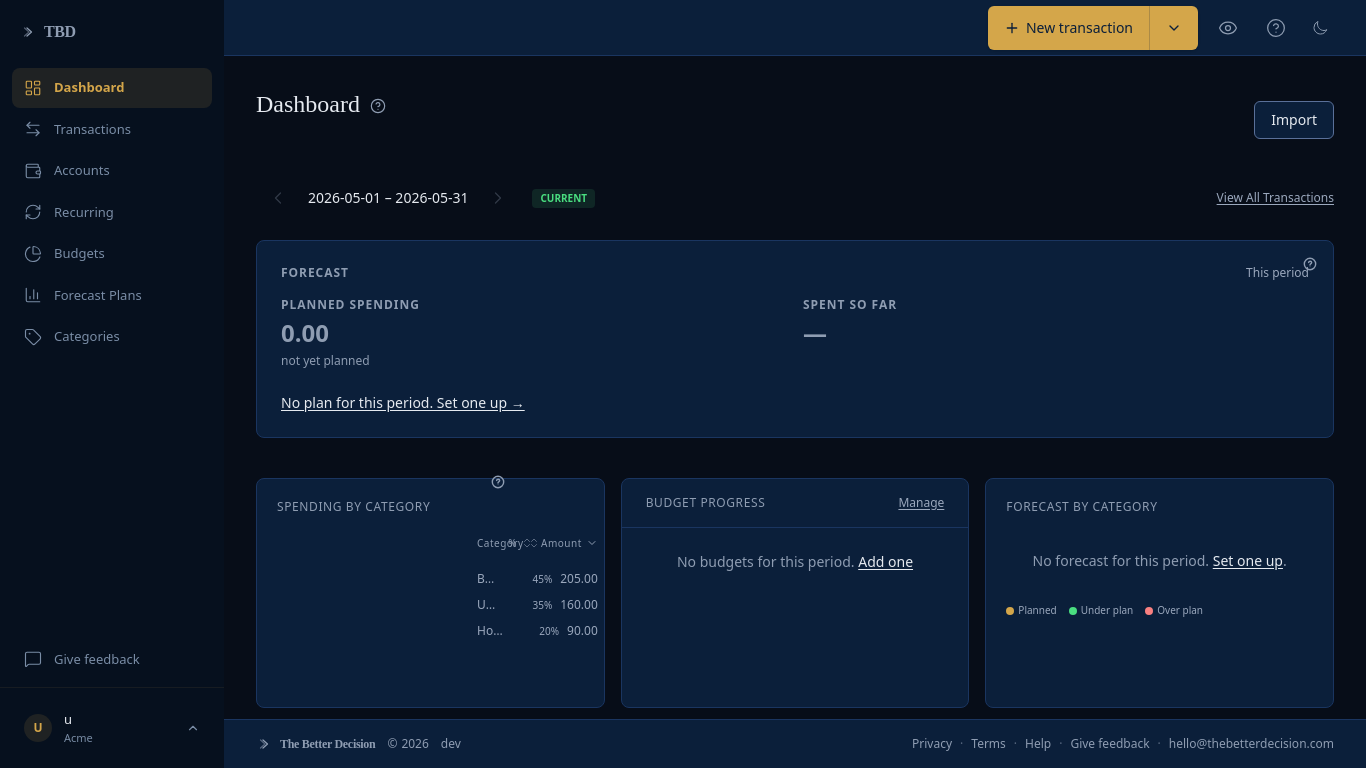
Test case: TBD-221 — LegacyDashboard shell (app/dashboard/page.tsx) › F-B: clicking a legend row issues the exact drilldown and the list agrees with the slice
Step 1. Click the button "Home 20% 90.00" → click(528, 631), box [453,621,604,641]
(page scrolled)
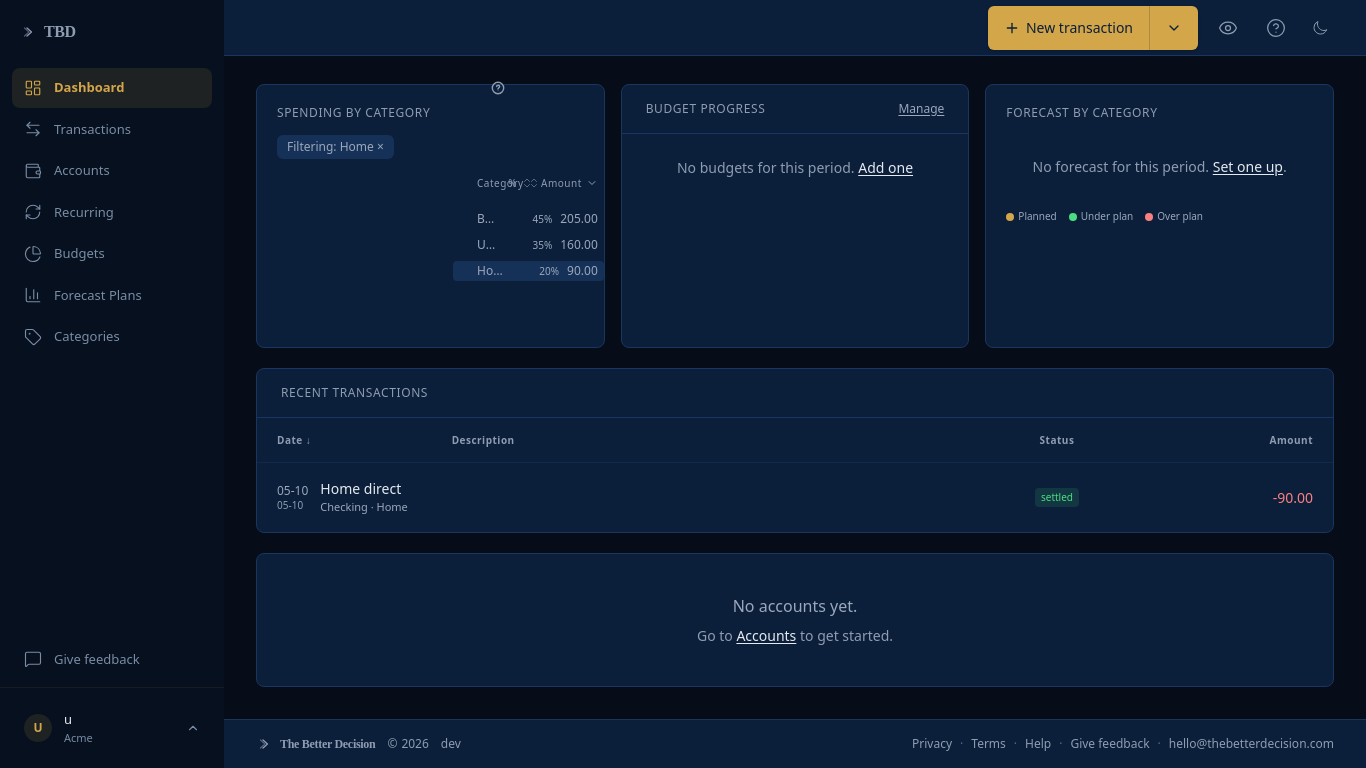
Result: the button "Filtering: Home ×" is shown at [277,135,394,159]
Result: the text "Home direct" is shown at [320,479,408,499]
